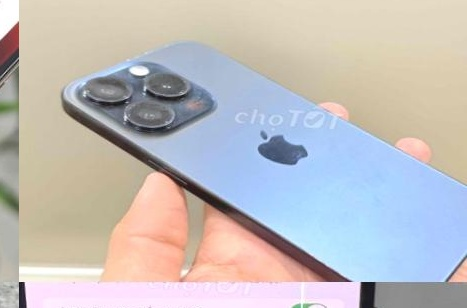scratch: (78, 58, 210, 133)
screen_defect: (231, 282, 366, 308)
